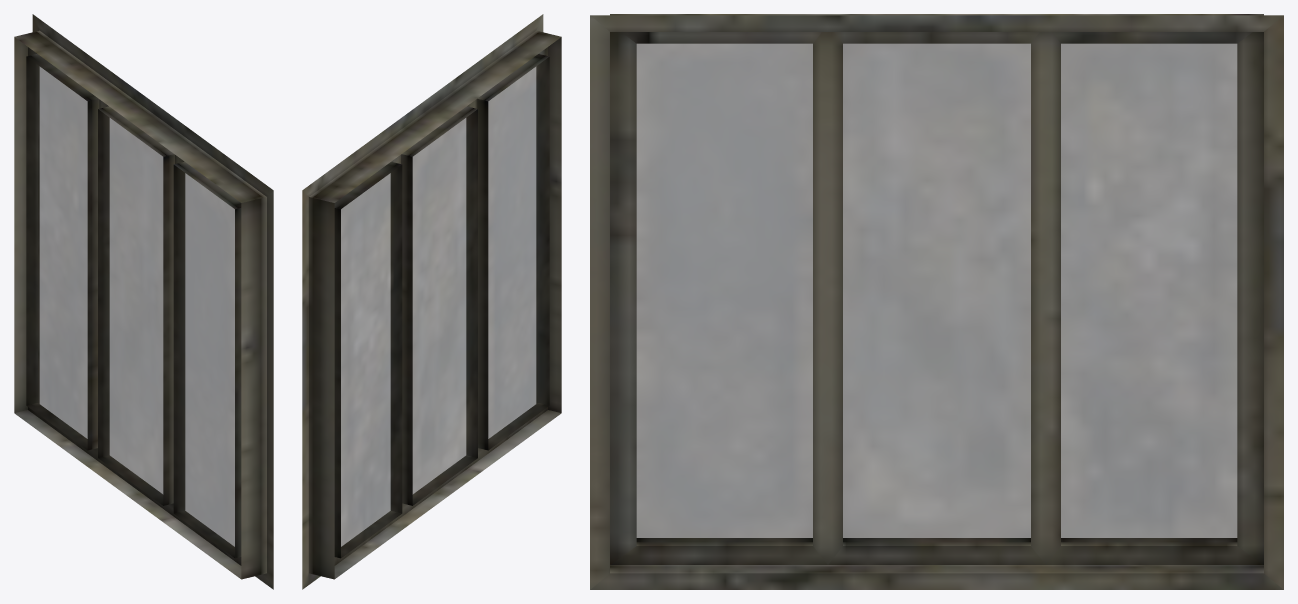
Rendered from TripleWindow.FBX.
3 renders of one model, left to right at view 1: azimuth 30°, elevation 25°; view 2: azimuth 150°, elevation 25°; view 3: azimuth 270°, elevation 25°, orthographic. The views are drawn at different scales.
Visible parts, largest first — view 1: TripleWindow; view 2: TripleWindow; view 3: TripleWindow.
Part boxes in pixels (<box>): TripleWindow: <box>14,14,273,589</box>; TripleWindow: <box>302,14,561,589</box>; TripleWindow: <box>590,14,1283,589</box>.
Size of the model in its own units: 13.82 by 207 by 227.
Materials: 2 (2 with a texture image).
